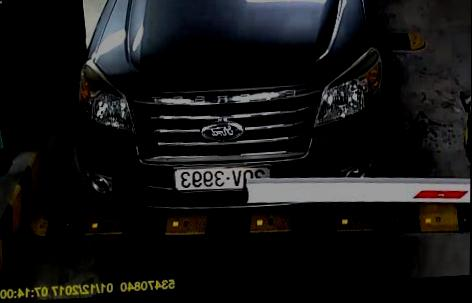License_Plate: (170, 162, 274, 198)
